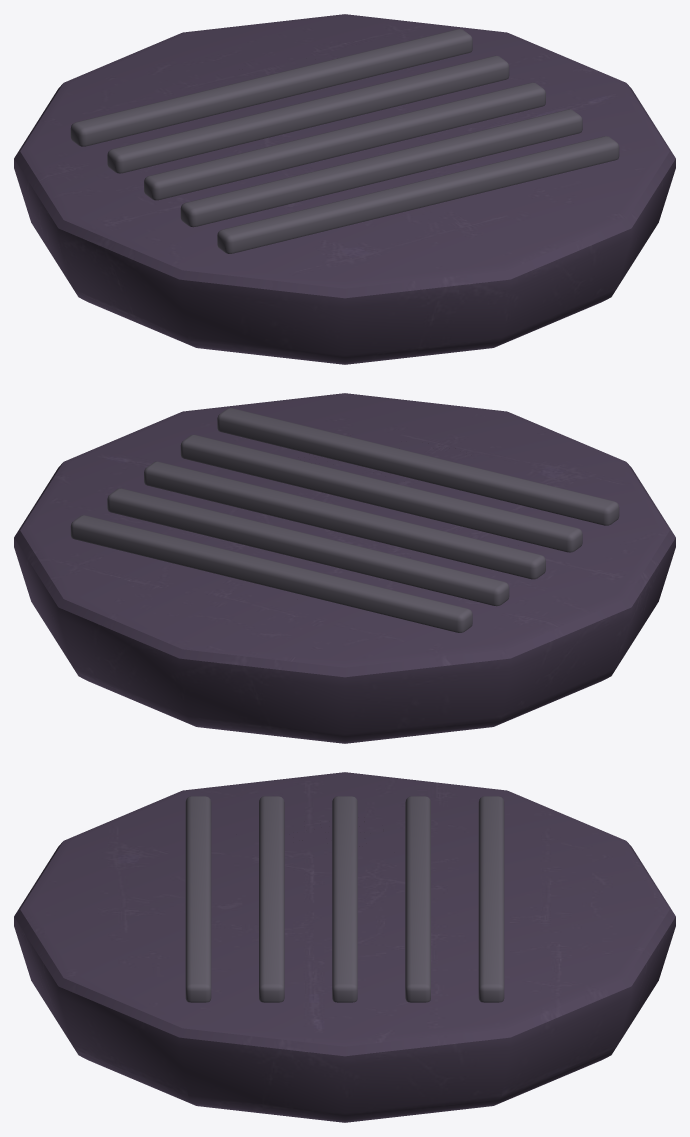
File: hz_fire_vent_disabled.glb
The picture shows the model from 3 angles, top to bottom: view 1: azimuth 30°, elevation 25°; view 2: azimuth 150°, elevation 25°; view 3: azimuth 270°, elevation 25°; orthographic projection.
Parts seen in each view (by area): view 1: hz_fire_vent_disabled; view 2: hz_fire_vent_disabled; view 3: hz_fire_vent_disabled.
Boxes of the visible parts, box(x1,y1,x2,y2) form: hz_fire_vent_disabled: box(14, 14, 675, 364); hz_fire_vent_disabled: box(14, 393, 675, 743); hz_fire_vent_disabled: box(14, 772, 675, 1122).
Size of the model in its own units: 0.9035 by 0.165 by 0.9035.
3 materials, 1 textured.
